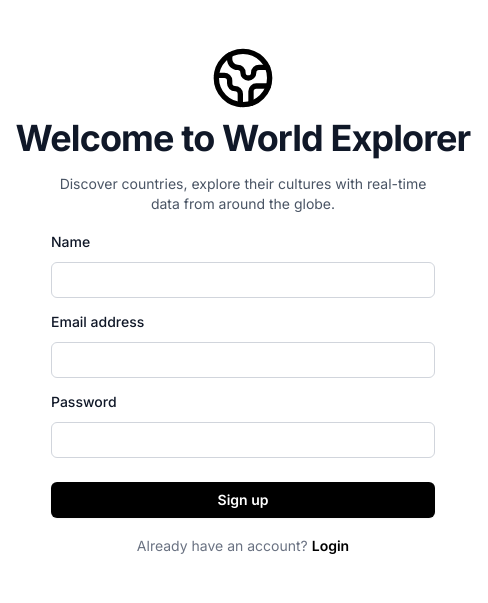
Scenario: Signup Page › shows validation errors when fields are empty
The image size is (488, 603).
Click the button "Sign up": (243, 500) [51, 482, 435, 518]
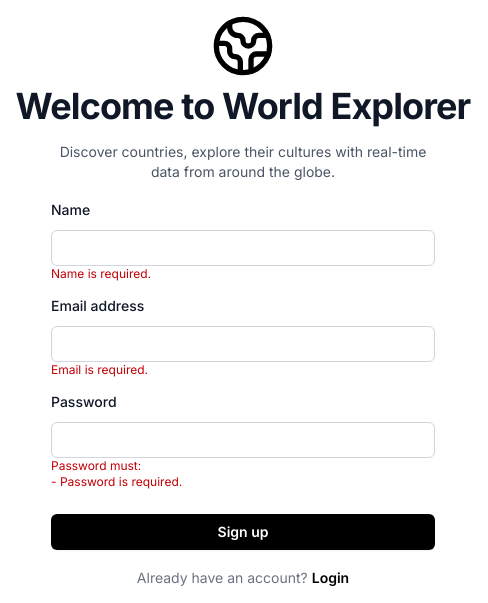
Expected: the text "Name is required." is shown, [51, 266, 151, 281]
Expected: the text "Email is required." is shown, [51, 362, 148, 377]
Expected: the list item "- Password is required." is shown, [51, 474, 182, 489]
